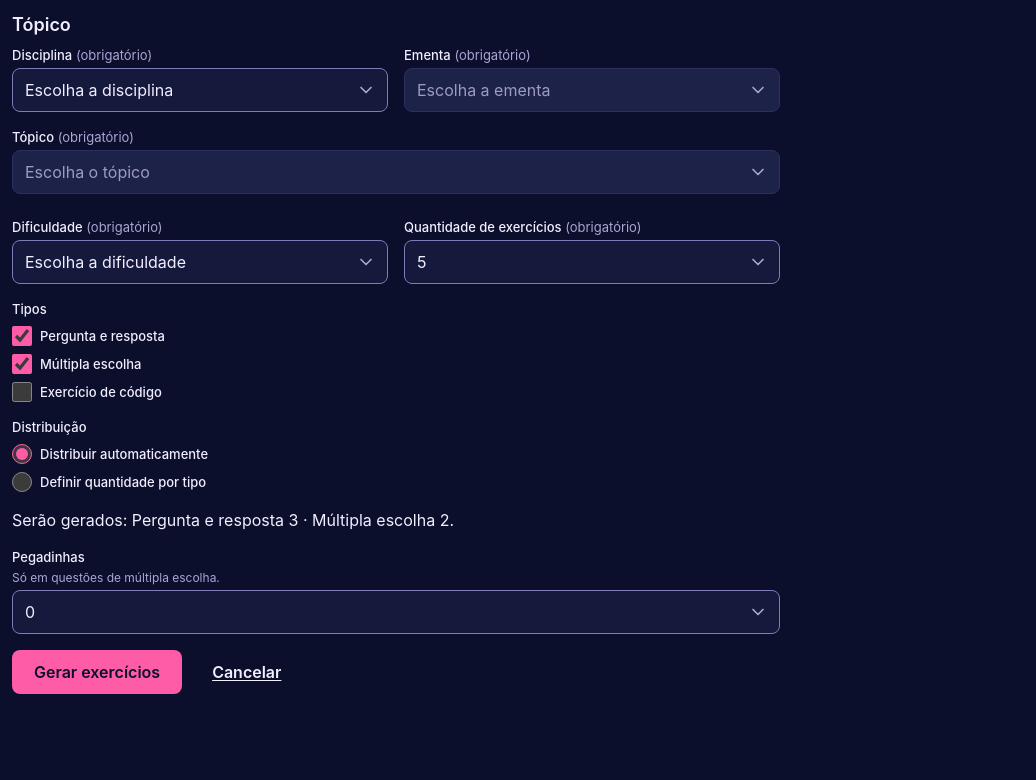
it: 010/US2 GenerationForm — Criar com IA › 010/US2-4 a prévia da distribuição automática é a do servidor: 10 em 3 tipos → 4, 3 e 3
Select "Programação Orientada a Objetos" in the dropdown labelled "Disciplina (obrigatório)" at (200, 90), box [12,68,388,112]
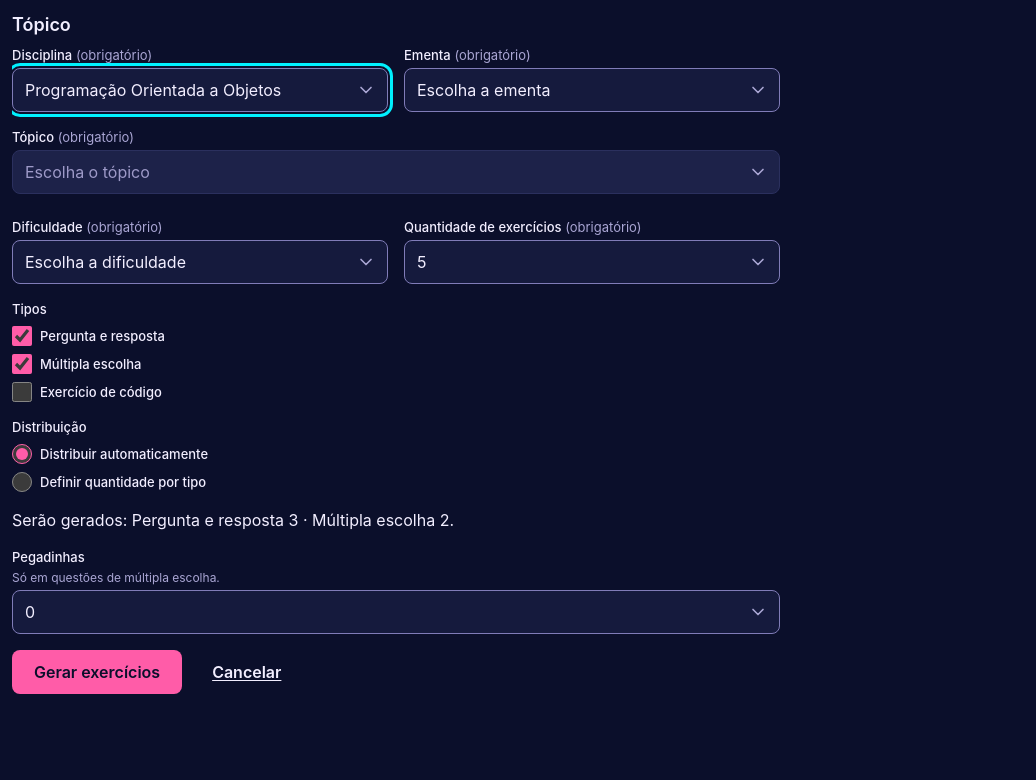
Select "Versão 1" in the dropdown labelled "Ementa (obrigatório)" at (592, 90), box [404,68,780,112]
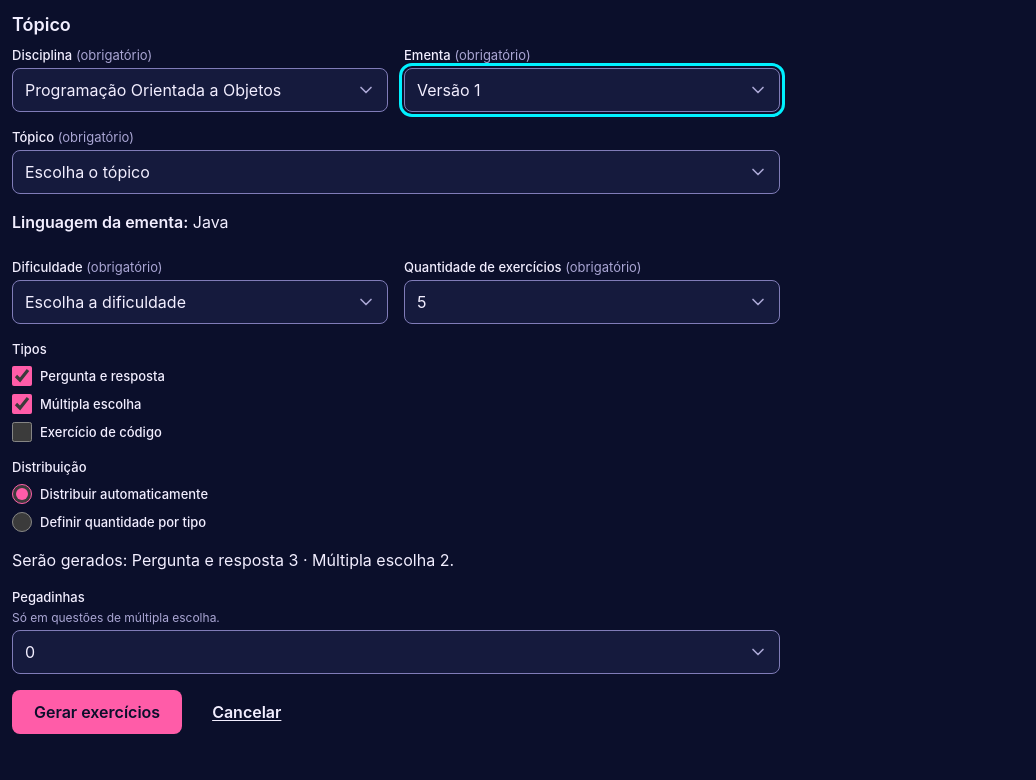
Select "Herança" in the dropdown labelled "Tópico (obrigatório)" at (396, 172), box [12,150,780,194]
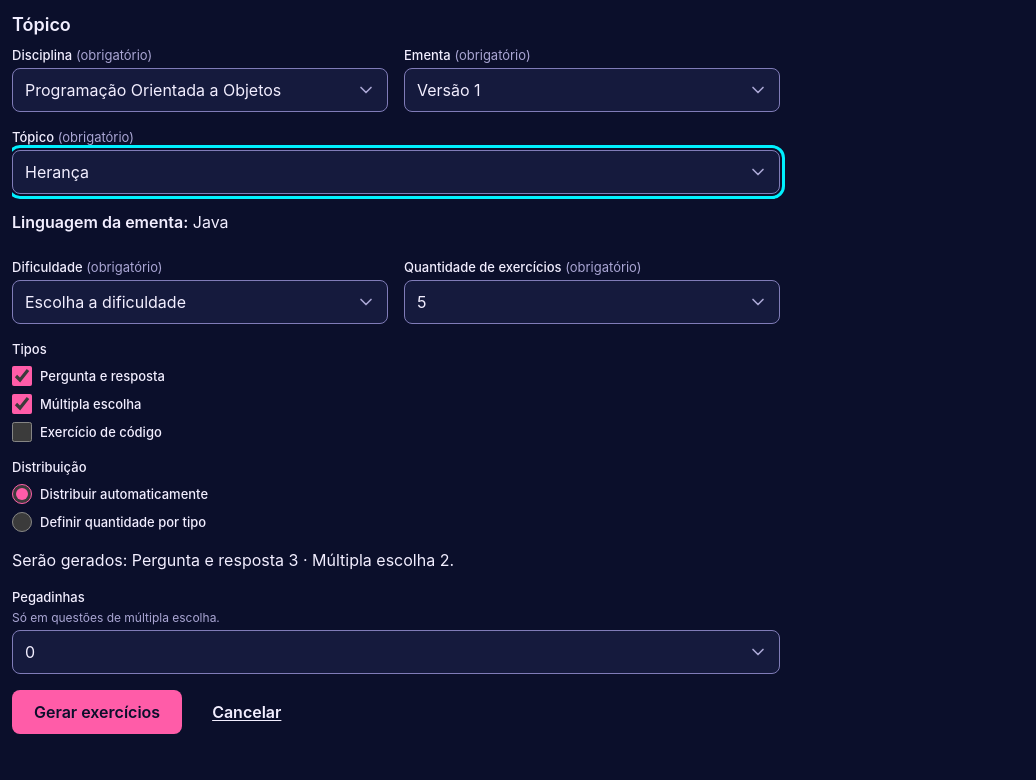
Select "10" in the dropdown labelled "Quantidade de exercícios (obrigatório)" at (592, 302), box [404,280,780,324]
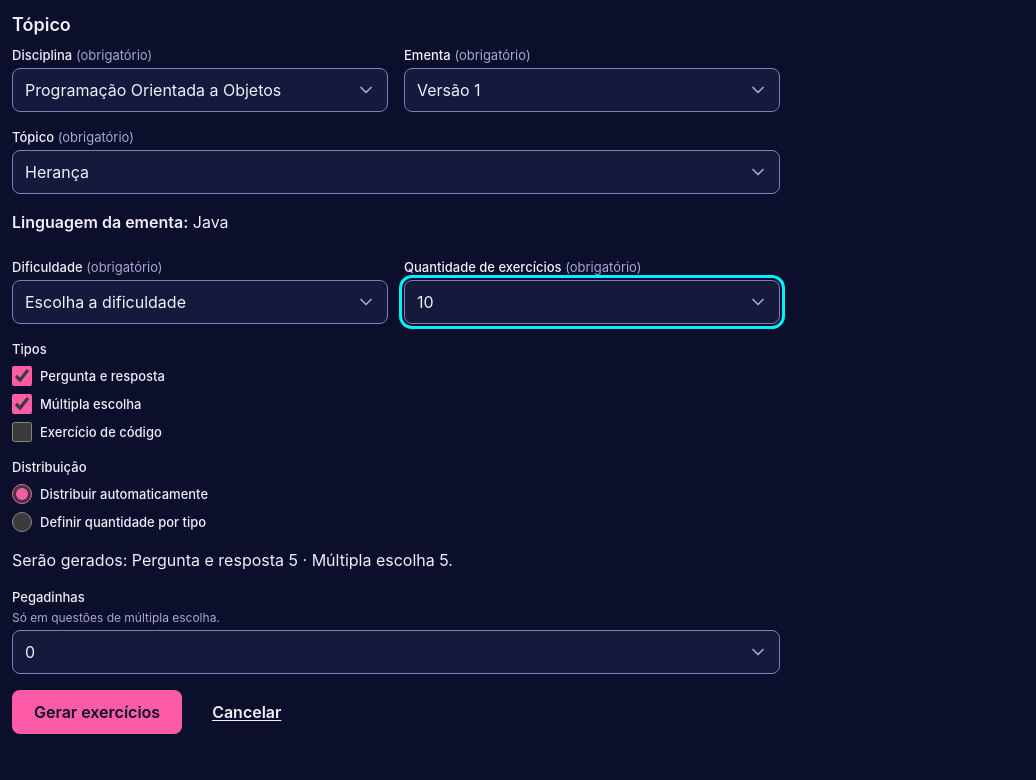
Click the checkbox labelled "Exercício de código" at (22, 432), box [12,422,32,442]
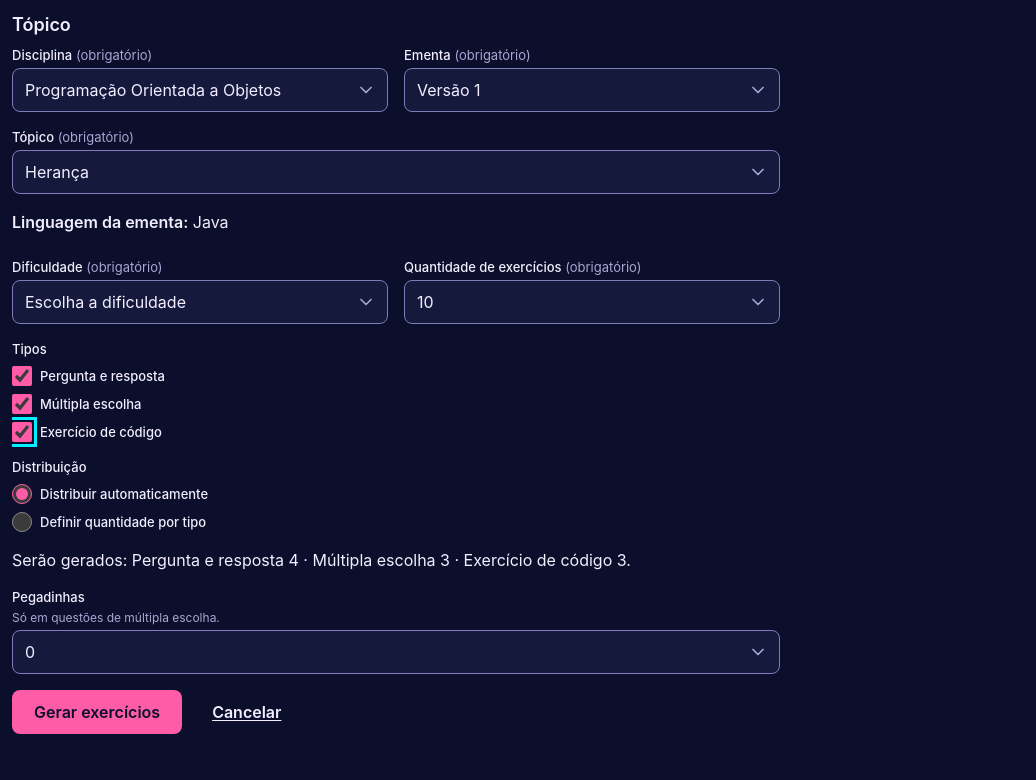
expect the text "Serão gerados: Pergunta e resposta 4 · Múltipla escolha 3 · Exercício de código 3." is shown: met, box [12,550,631,570]
